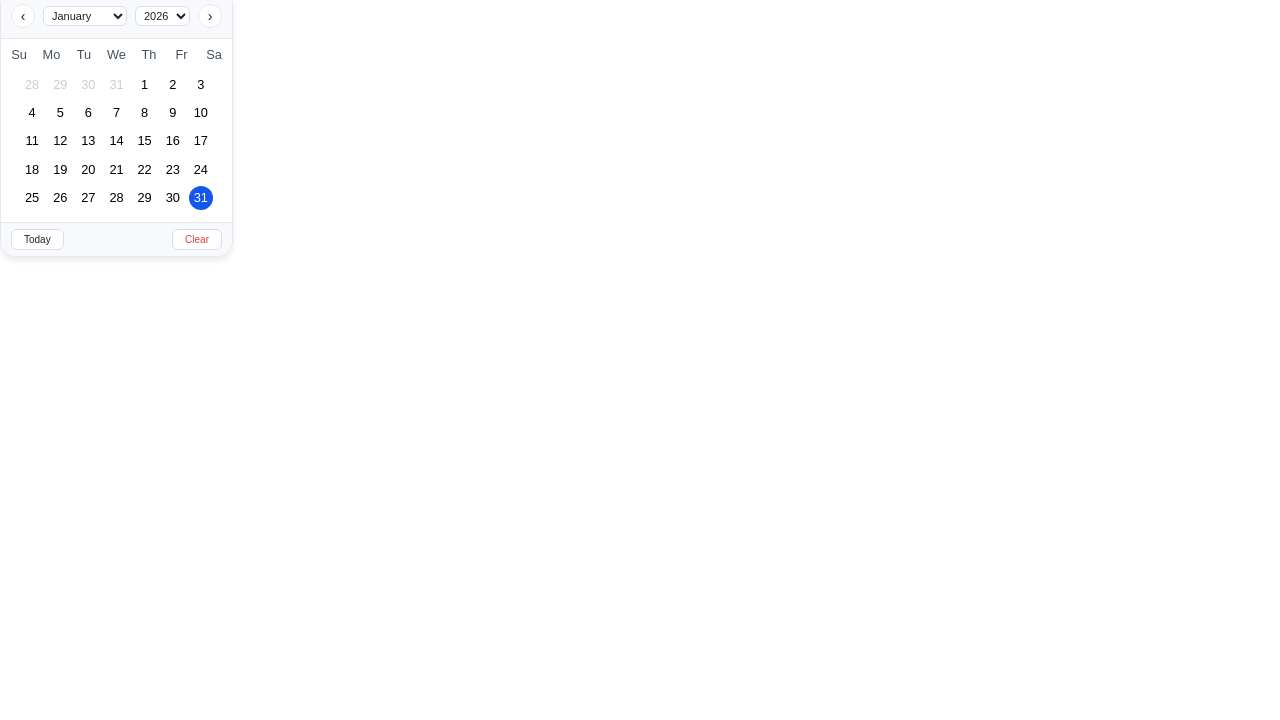
Scenario: DatePopup › moves from January to the previous December without saving
Click the button named "Previous month" at point(23, 16), box [11,4,35,28]
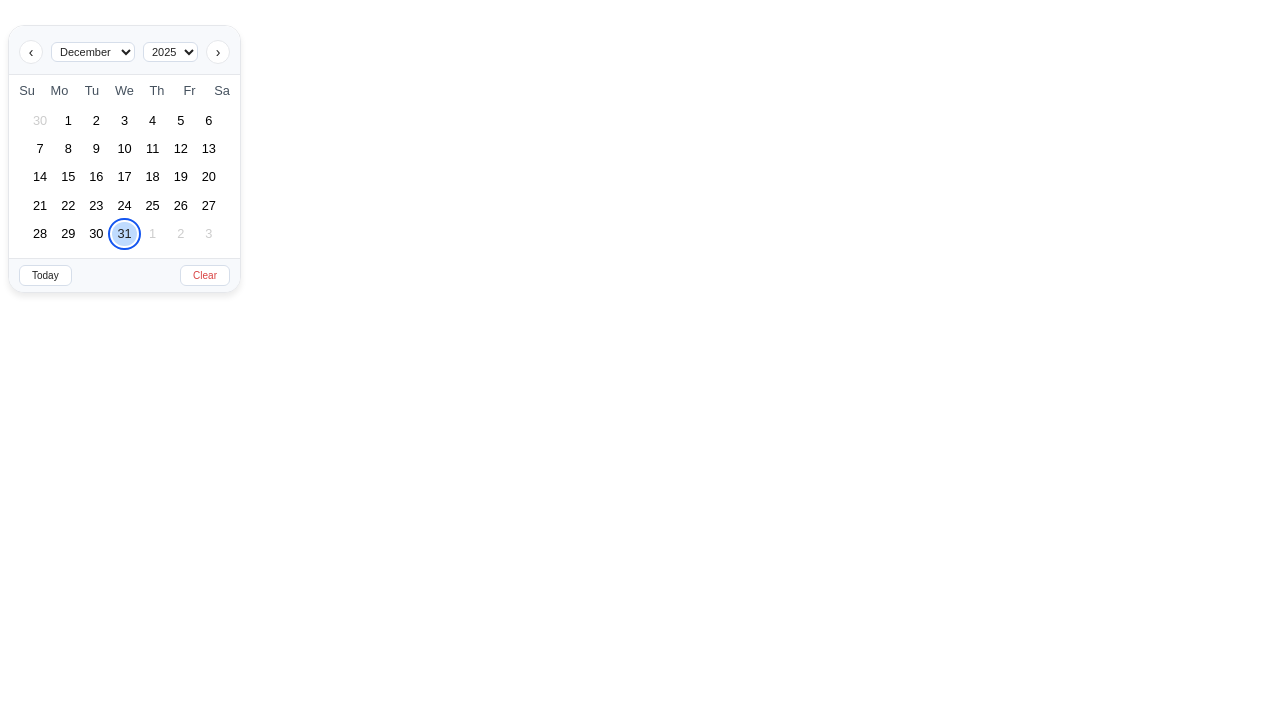
Expected: the dropdown named "Year" shows "2025", [143,42,198,62]
Expected: the dropdown named "Month" shows "December", [51,42,135,62]
